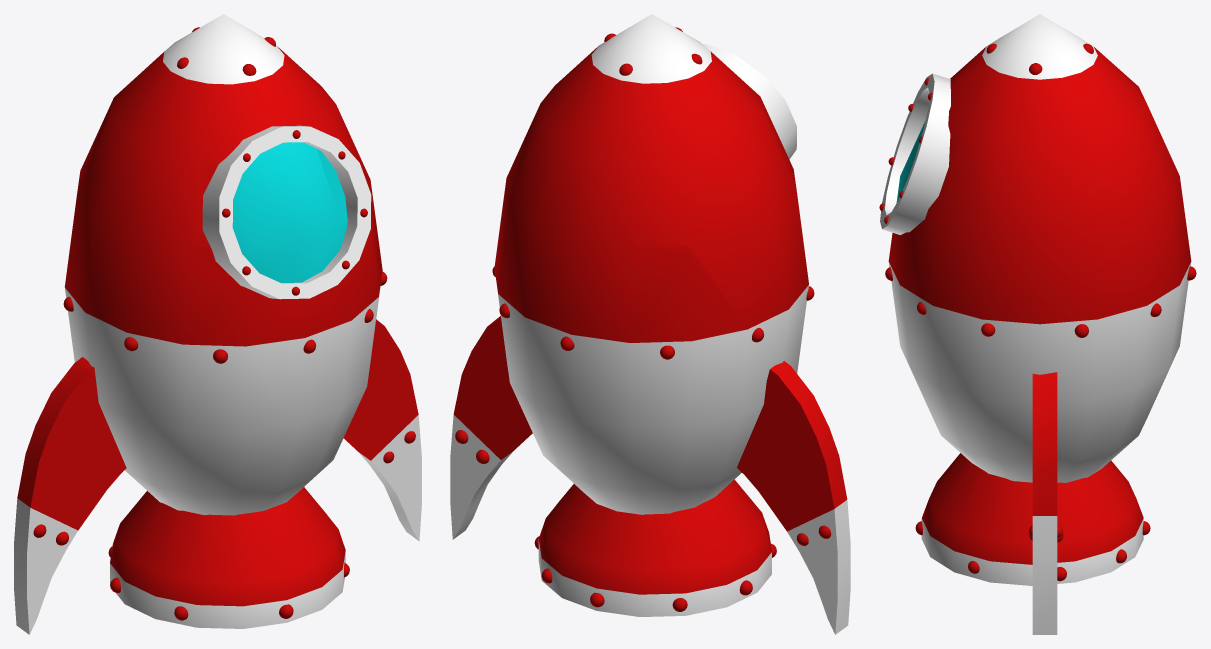
File: rocket.glb
3 views of the same model, side by side, from view 1: azimuth 30°, elevation 25°; view 2: azimuth 150°, elevation 25°; view 3: azimuth 270°, elevation 25° (orthographic). The views are drawn at different scales.
Visible parts, largest first — view 1: Object_6, Object_8, Object_5, Object_3, Object_7, Object_4, Object_2; view 2: Object_6, Object_8, Object_5, Object_7, Object_4; view 3: Object_6, Object_8, Object_5, Object_7, Object_4.
Boxes of the visible parts, <box> form: Object_6: <box>65,46,382,606</box>; Object_8: <box>65,14,381,628</box>; Object_5: <box>17,319,418,530</box>; Object_3: <box>232,142,347,282</box>; Object_7: <box>14,415,421,634</box>; Object_4: <box>33,27,415,620</box>; Object_2: <box>317,149,347,225</box>; Object_6: <box>494,46,808,594</box>; Object_8: <box>495,14,808,616</box>; Object_5: <box>453,316,847,531</box>; Object_7: <box>450,415,850,634</box>; Object_4: <box>455,27,831,611</box>; Object_6: <box>888,47,1191,564</box>; Object_8: <box>880,14,1191,585</box>; Object_5: <box>1032,372,1057,515</box>; Object_7: <box>1032,516,1057,634</box>; Object_4: <box>879,43,1196,581</box>.
Size of the model in its own units: 517 by 718 by 387.
